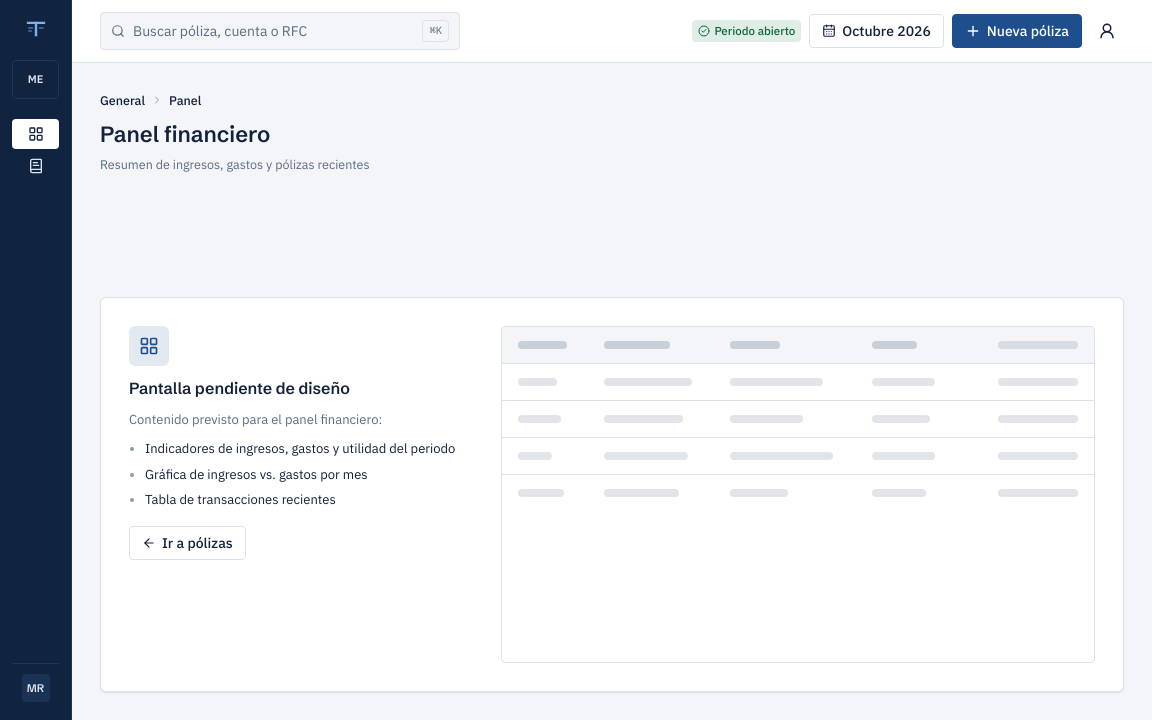
Logout › clears the session and redirects to login
What coordinates should you click on to do the following:
click the button named "Menú de usuario"
I would click on:
 (1107, 31)
Its box is [1090,14,1124,48].
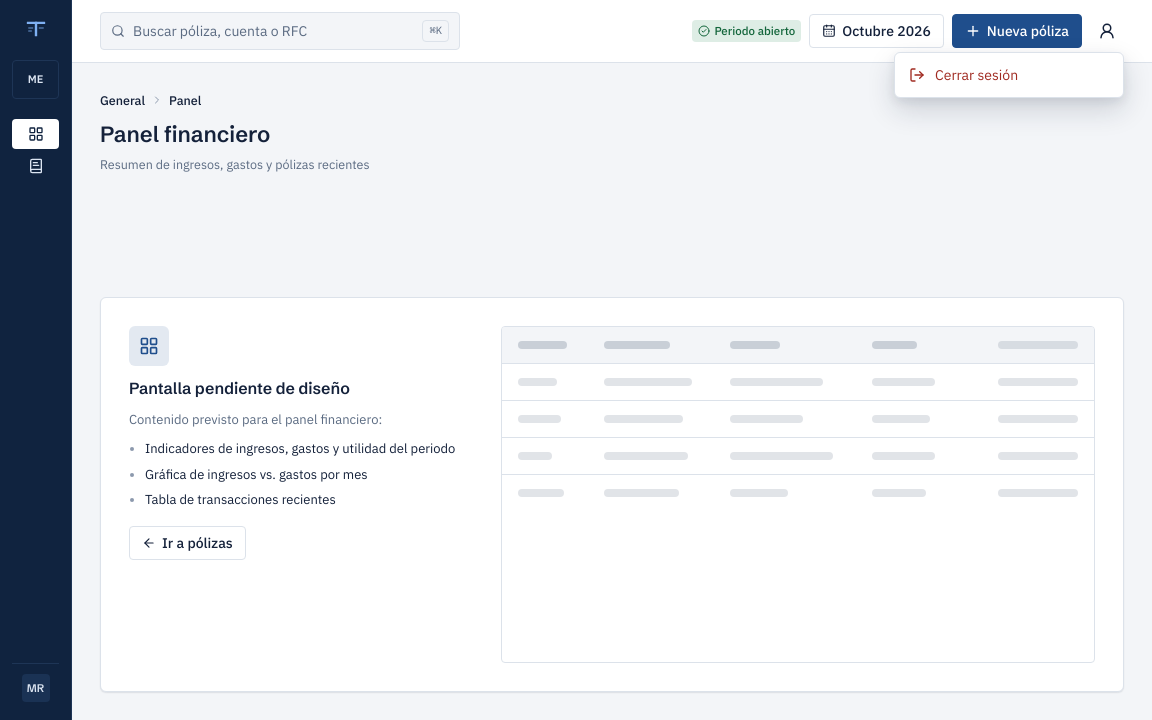
What coordinates should you click on to do the following:
click the menu item "Cerrar sesión"
I would click on:
 (1009, 75)
Its box is [899,57,1119,93].
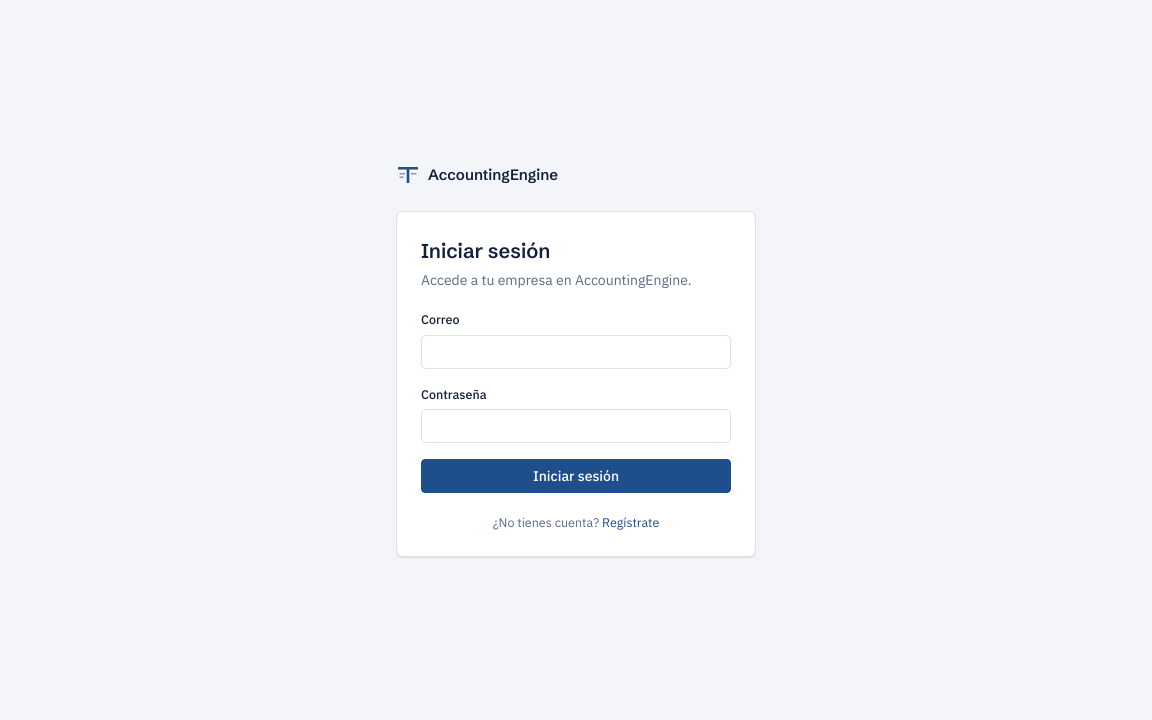
Expected: the heading "Iniciar sesión" is shown, [421,238,550,263]
